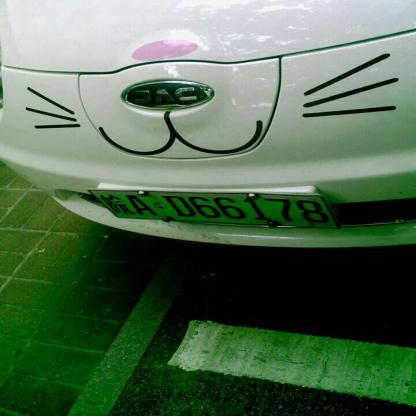lp: (90, 189, 340, 227)
